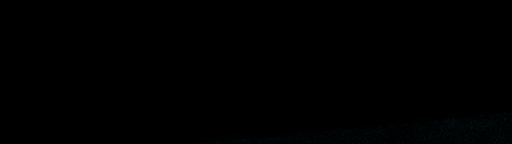letter: (439, 15, 475, 83), (285, 34, 323, 94), (316, 31, 352, 93), (256, 40, 294, 98), (378, 22, 412, 86), (409, 20, 443, 83), (348, 27, 382, 89), (228, 41, 262, 103), (198, 45, 232, 105), (468, 10, 500, 72), (6, 65, 36, 127), (144, 52, 176, 109), (88, 60, 120, 116), (117, 54, 147, 112), (62, 62, 92, 120), (35, 63, 63, 124), (179, 49, 201, 107)
